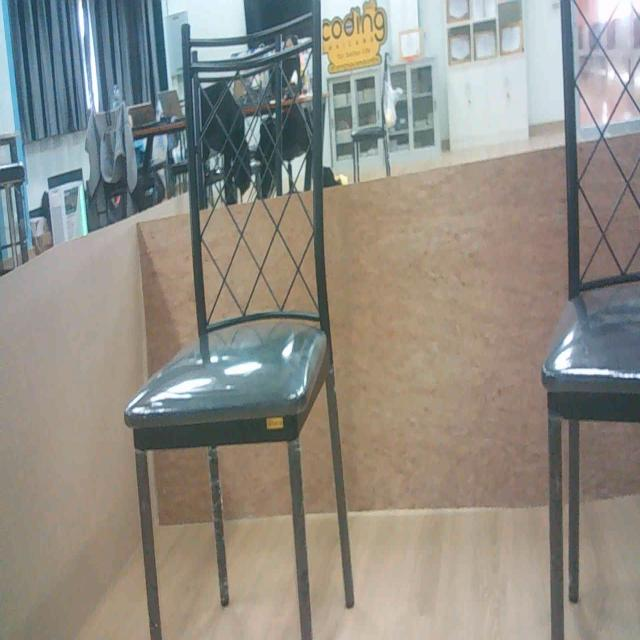emtpy: (123, 56, 357, 640), (525, 0, 640, 640)
